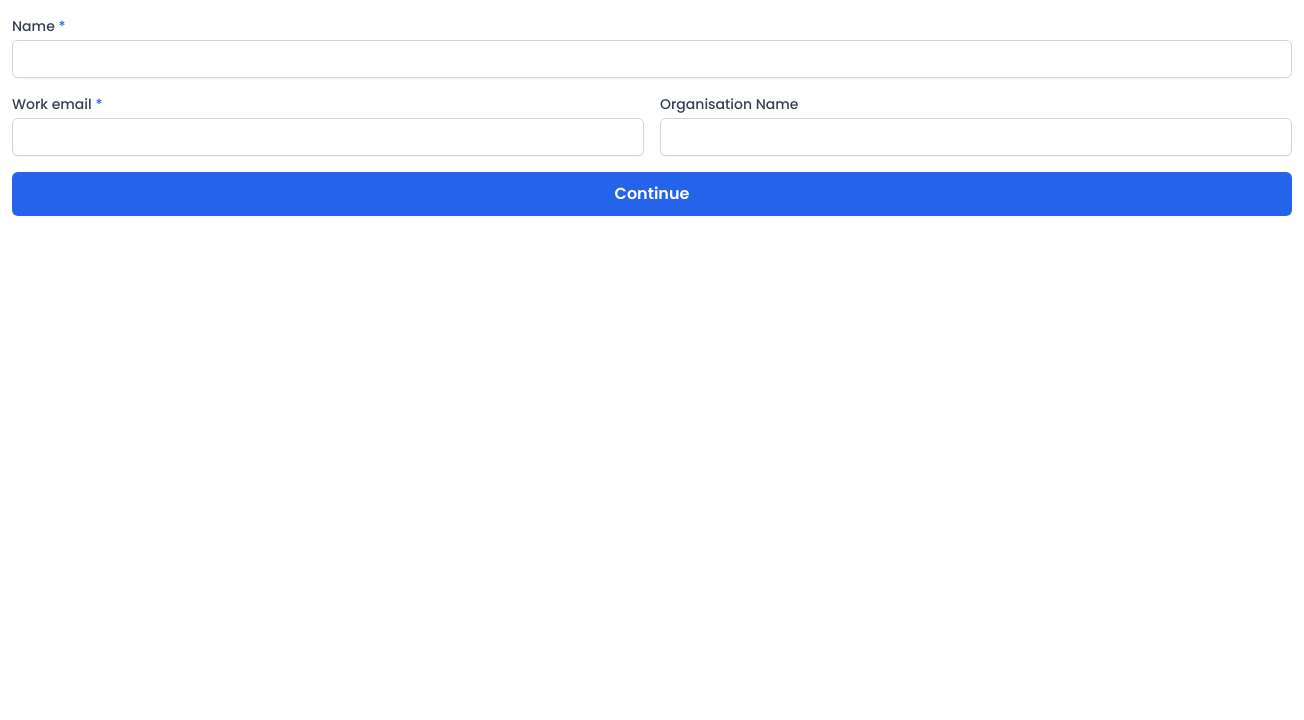
LeadCaptureForm › progressive contact form reveals the rest once someone types
The image size is (1304, 720).
Expected: the dropdown labelled "Which industry are you rostering for?" is not shown
In the field labelled "Name *": x=652, y=59 x1=12 y1=40 x2=1292 y2=78, type "Sam"
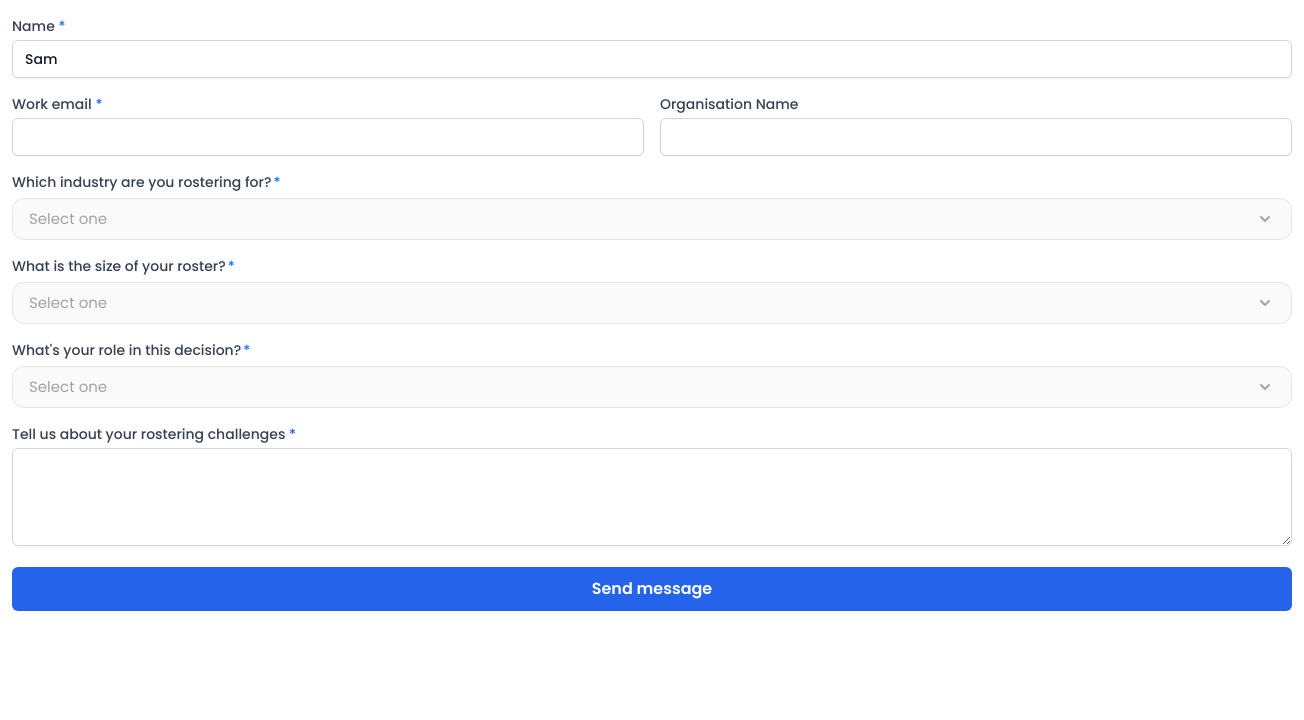
Expected: the dropdown named "Which industry are you rostering for?" is shown, x1=12 y1=198 x2=1292 y2=240
